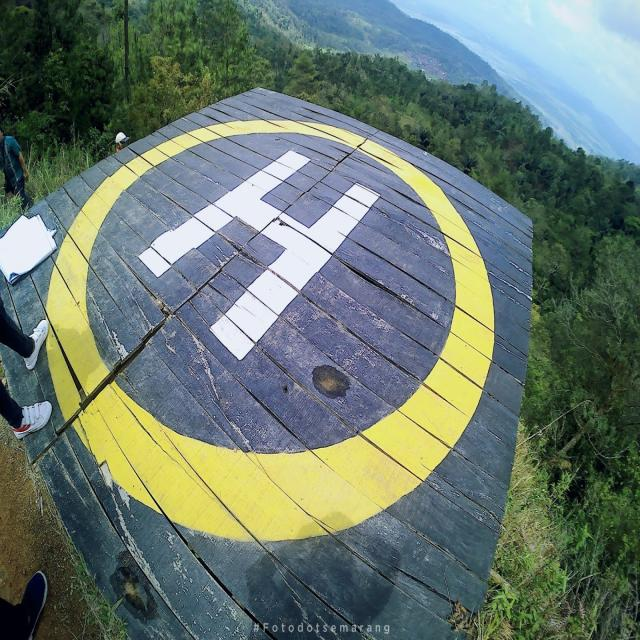helipad: (36, 113, 498, 551)
